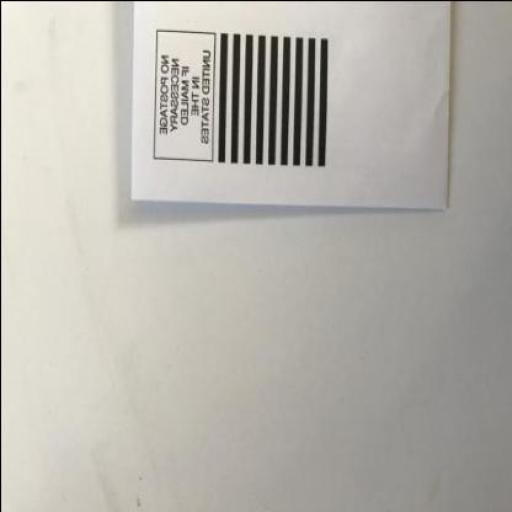paper: (128, 2, 450, 210)
